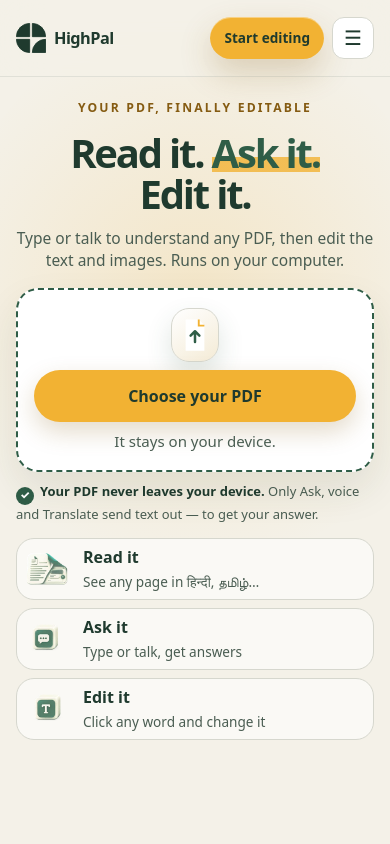
Scenario: Landing › folds the page links into a ☰ menu that opens and closes (phones)
Click the button named "Menu": [353, 38] box [332, 17, 374, 59]
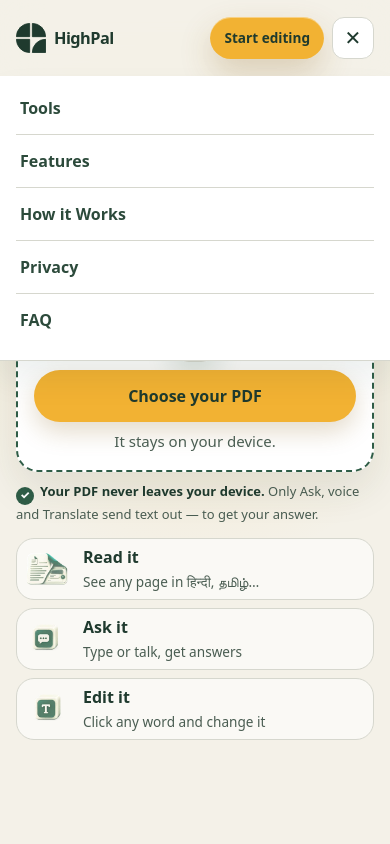
Check: the button named "Menu" is expanded, box [332, 17, 374, 59]
Click the link "FAQ": [36, 320] box [20, 309, 52, 331]
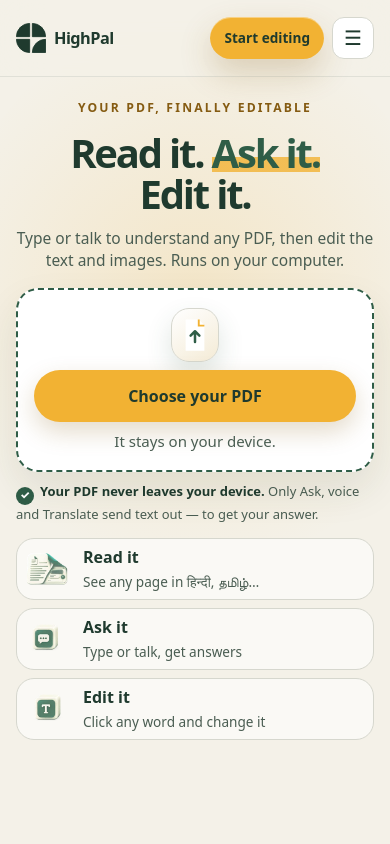
Check: the navigation bar named "Main navigation" does not have class "is-open", box [16, 17, 374, 59]
Click the button named "Menu": [353, 38] box [332, 17, 374, 59]
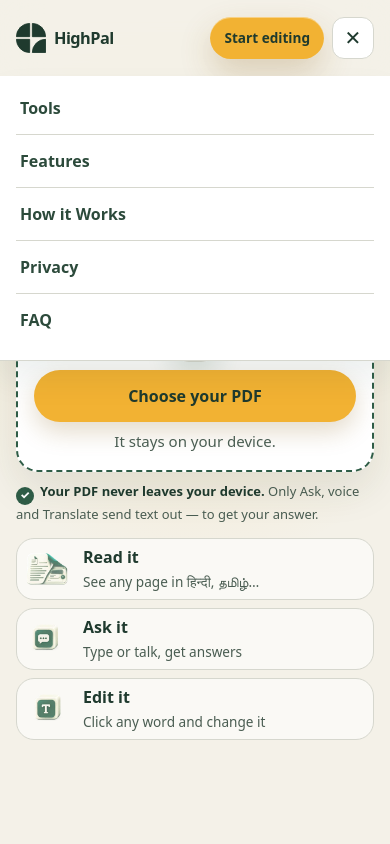
Press Escape
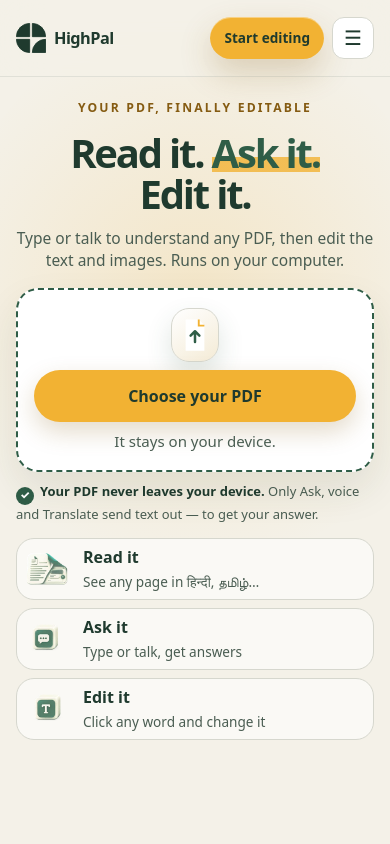
Check: the button named "Menu" is collapsed
Click the button named "Menu": [353, 38] box [332, 17, 374, 59]
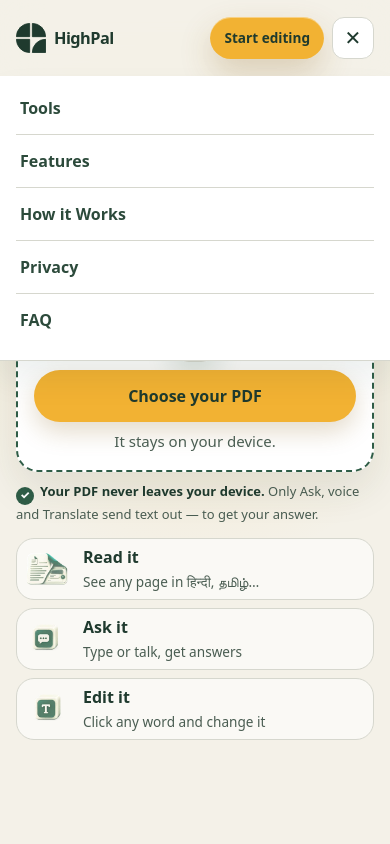
Press the mouse on the element that starts with "Skip to content": [195, 422] box [0, 0, 389, 843]
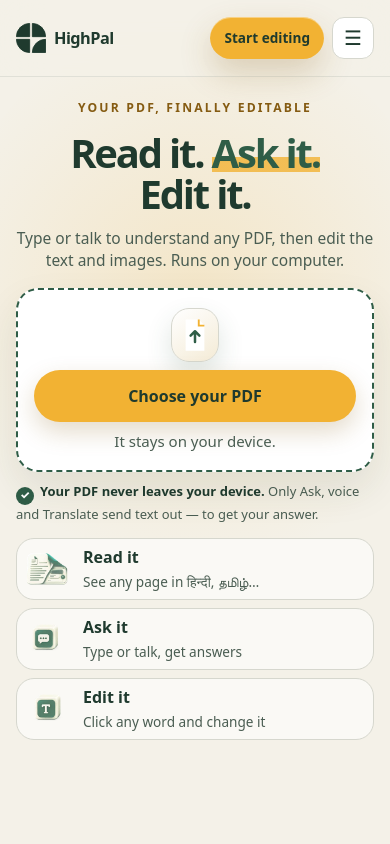
Check: the button named "Menu" is collapsed, box [332, 17, 374, 59]
